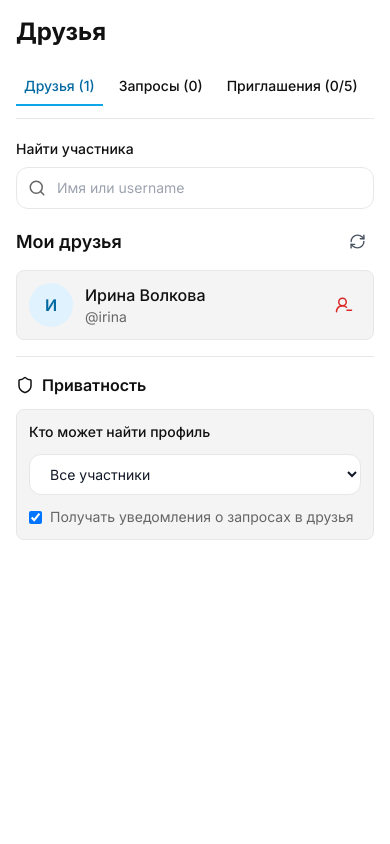
FriendsPage invitation loading › renders friends from the friends API and opens a privacy-filtered profile
Click the text "Ирина Волкова": (145, 295) [85, 285, 206, 305]
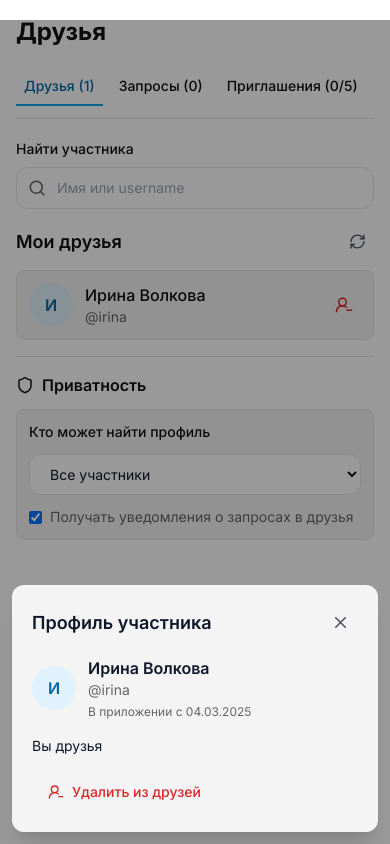
expect the dialog is shown: met, box [12, 585, 378, 832]
expect the text "Вы друзья" is shown: met, box [32, 737, 102, 754]
